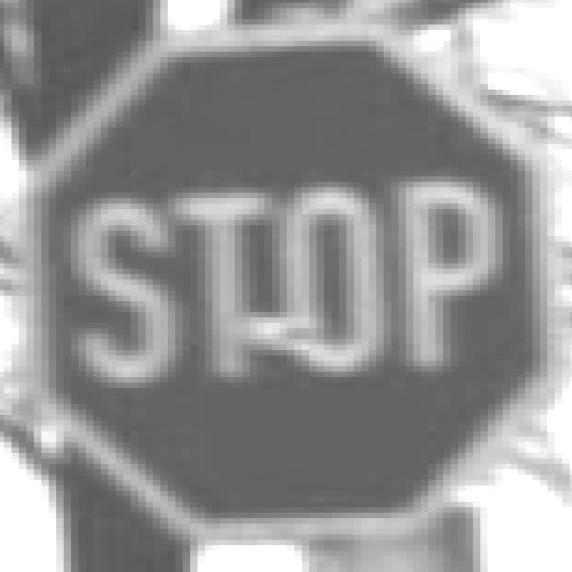stop_sign: (0, 5, 572, 553)
